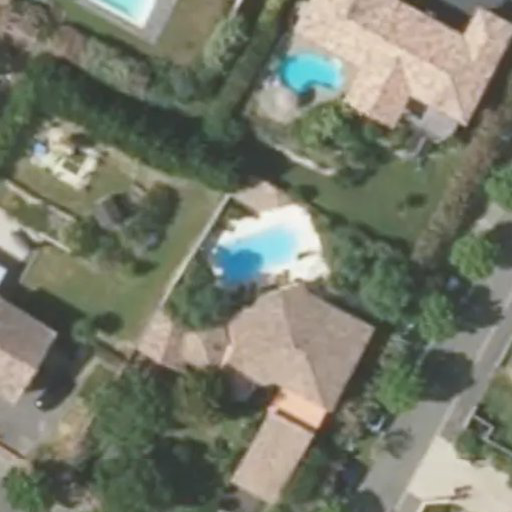pool: (211, 233, 304, 248)
